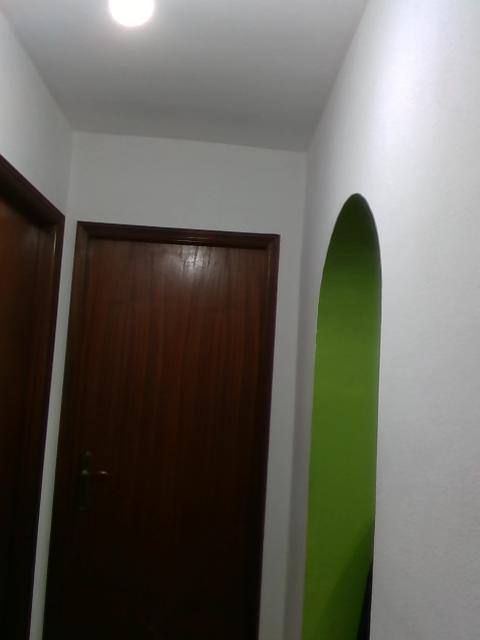door: (58, 244, 266, 640)
